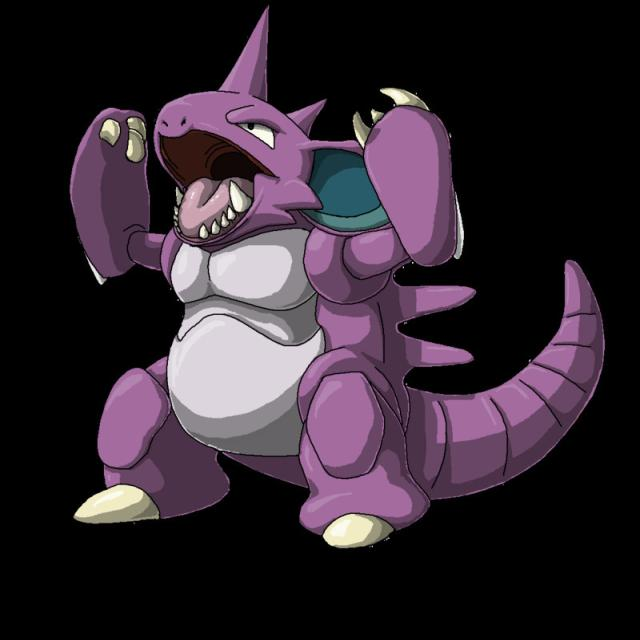Nidoking: (54, 5, 612, 578)
